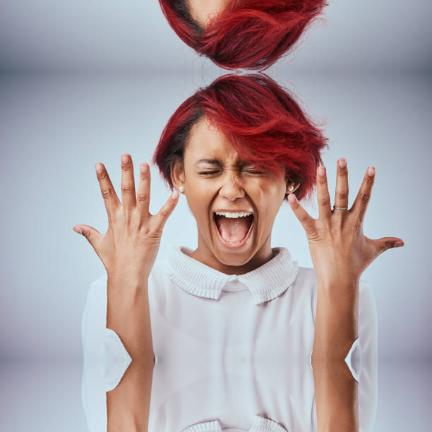Nail: (367, 167, 376, 177), (95, 163, 103, 174), (73, 226, 82, 235), (338, 160, 346, 169), (318, 167, 325, 177), (122, 155, 129, 164), (288, 194, 295, 203), (141, 163, 147, 173), (394, 241, 404, 247), (172, 192, 179, 199)
